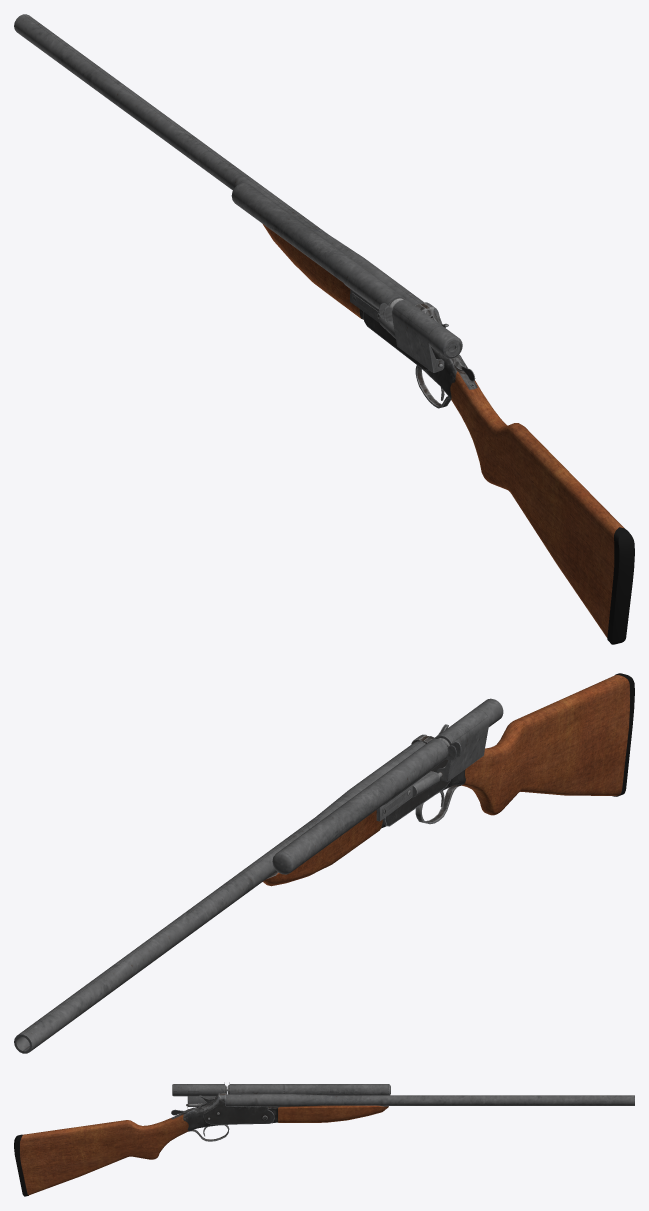
File: Stevens94b_alof.fbx
3 views of the same model, one above another, from view 1: azimuth 30°, elevation 25°; view 2: azimuth 150°, elevation 25°; view 3: azimuth 270°, elevation 25° (orthographic). The views are drawn at different scales.
Parts seen in each view (by area): view 1: Plane.001, Cylinder, Cylinder.002, Cylinder.001, Plane.002; view 2: Plane.001, Cylinder, Cylinder.002, Cylinder.001, Plane.002; view 3: Plane.001, Cylinder, Cylinder.002, Plane.002, Cylinder.001.
Part boxes in pixels (<box>): Plane.001: <box>363,302,634,644</box>; Cylinder: <box>14,14,423,305</box>; Cylinder.002: <box>231,183,405,338</box>; Cylinder.001: <box>383,299,462,372</box>; Plane.002: <box>263,224,363,319</box>; Plane.001: <box>383,673,634,826</box>; Cylinder: <box>14,741,425,1053</box>; Cylinder.002: <box>272,738,456,874</box>; Cylinder.001: <box>434,698,503,781</box>; Plane.002: <box>263,810,386,886</box>; Plane.001: <box>14,1093,274,1196</box>; Cylinder: <box>226,1094,634,1106</box>; Cylinder.002: <box>229,1082,390,1095</box>; Plane.002: <box>268,1105,388,1123</box>; Cylinder.001: <box>172,1082,224,1107</box>.
Bounding box in the file's own units: 23.17 × 88.56 × 470.
1 material, 1 textured.
